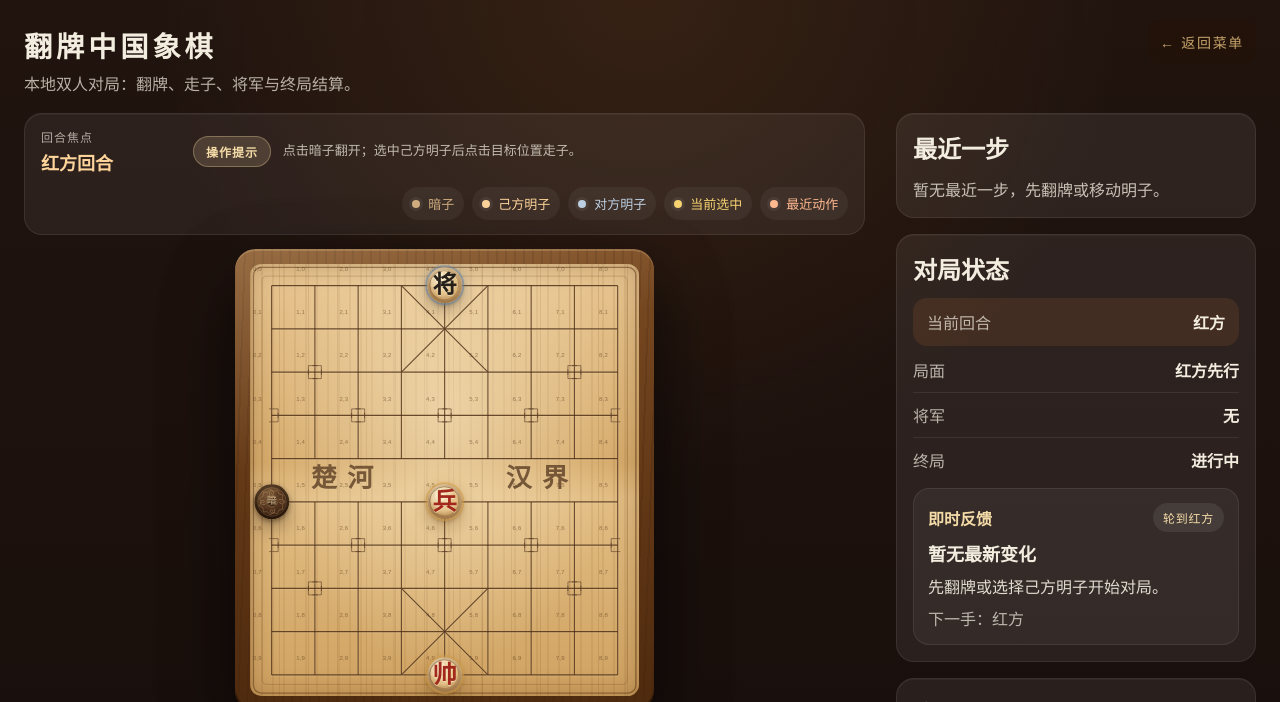
Scenario: app flow › flips an opponent hidden piece through clicks and passes the turn
This screenshot has width=1280, height=702.
Click the button with test id "cell-0-5" at (272,502), box x1=250 y1=480 x2=293 y2=523
Wait 400 ms
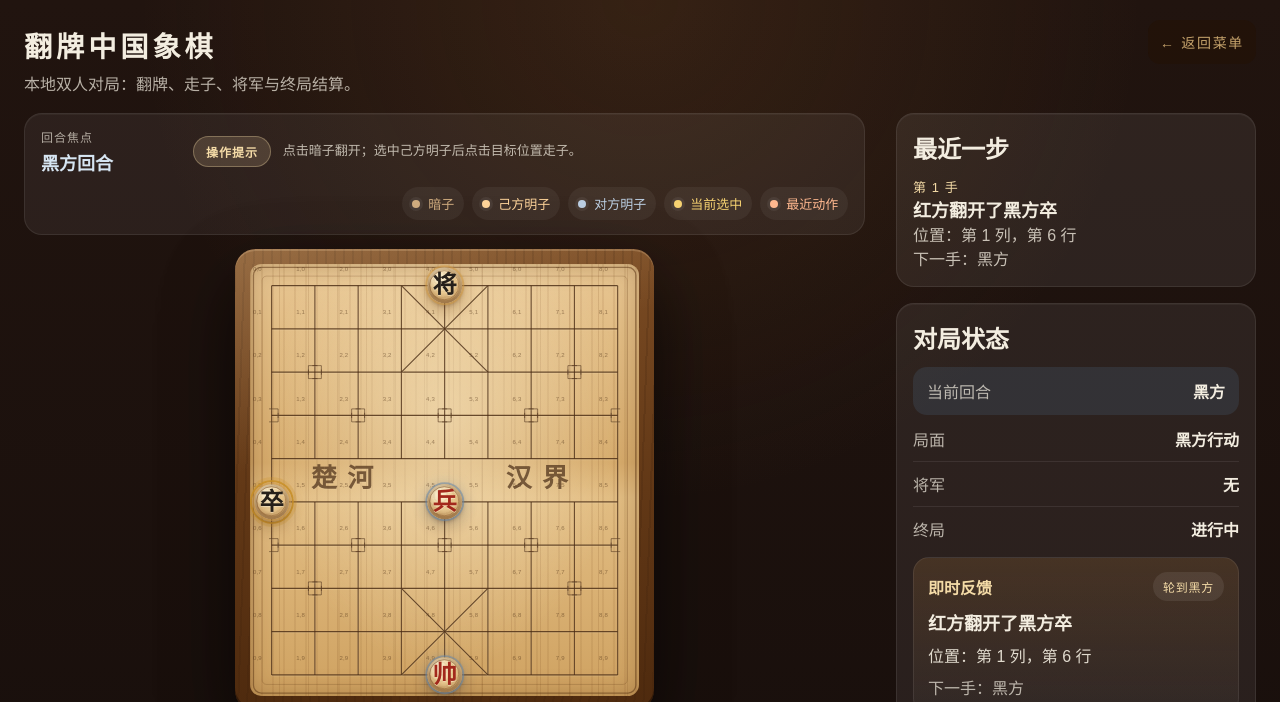
Expected: the button with test id "cell-0-5" shows "卒", x1=250 y1=480 x2=293 y2=523
Expected: the text "黑方" is shown, x1=1193 y1=379 x2=1225 y2=403
Expected: the text "第 1 手" is shown, x1=913 y1=180 x2=959 y2=195
